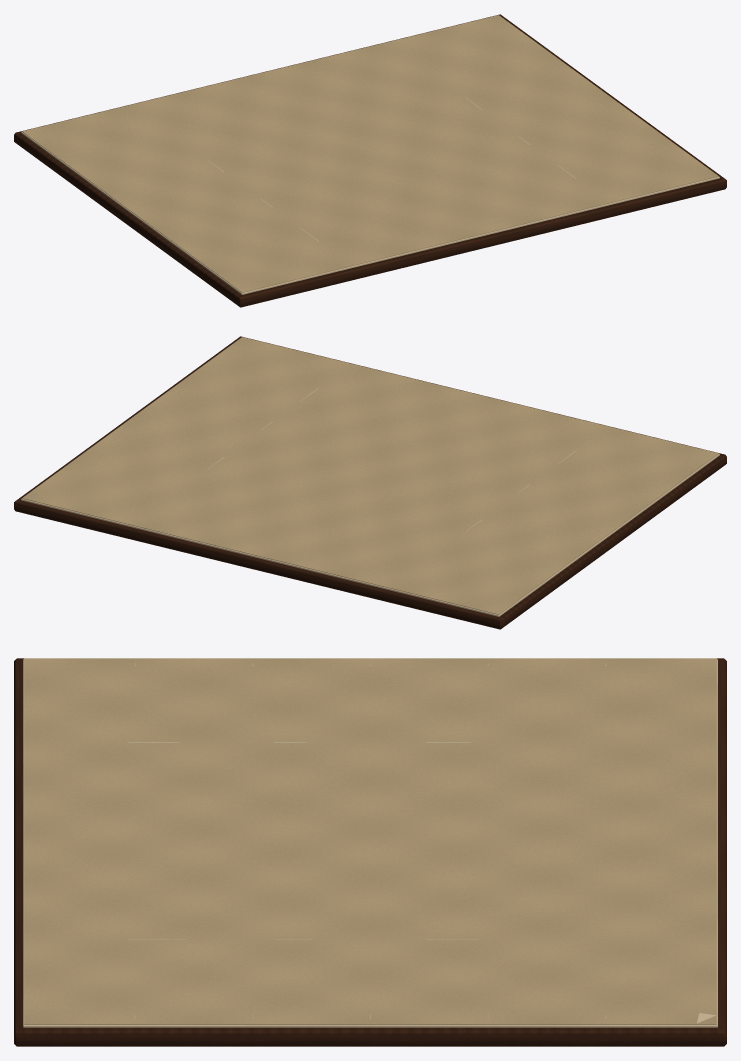
The model's file is arena_wide_10x8.glb.
The picture shows the model from 3 angles, top to bottom: view 1: azimuth 30°, elevation 25°; view 2: azimuth 150°, elevation 25°; view 3: azimuth 270°, elevation 25°; orthographic projection. The views are drawn at different scales.
Visible parts, largest first — view 1: arena_wide_10x8.002; view 2: arena_wide_10x8.002; view 3: arena_wide_10x8.002.
Part boxes in pixels (<box>): arena_wide_10x8.002: <box>14,14,726,307</box>; arena_wide_10x8.002: <box>14,336,726,629</box>; arena_wide_10x8.002: <box>14,658,726,1046</box>.
Size of the model in its own units: 10.24 by 0.297 by 8.24.
Materials: 4 (2 with a texture image).
